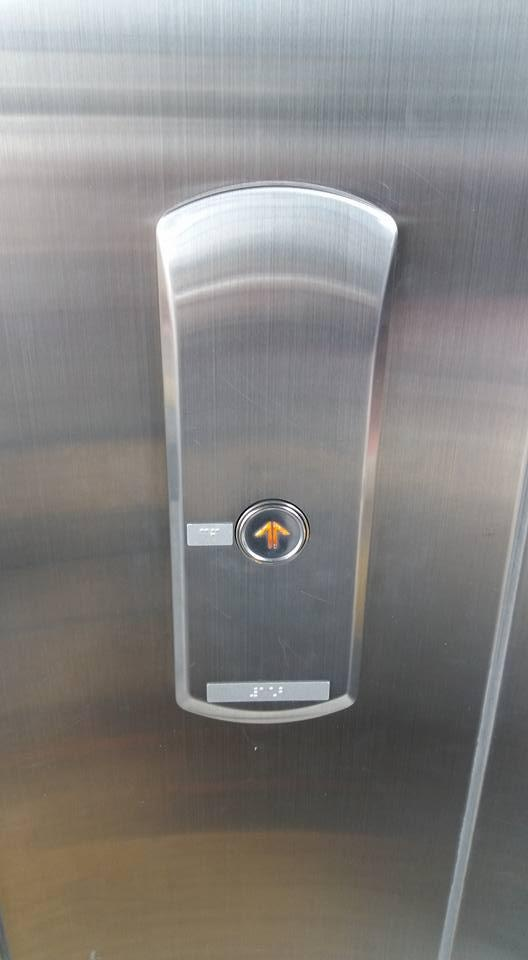up: (236, 498, 310, 569)
